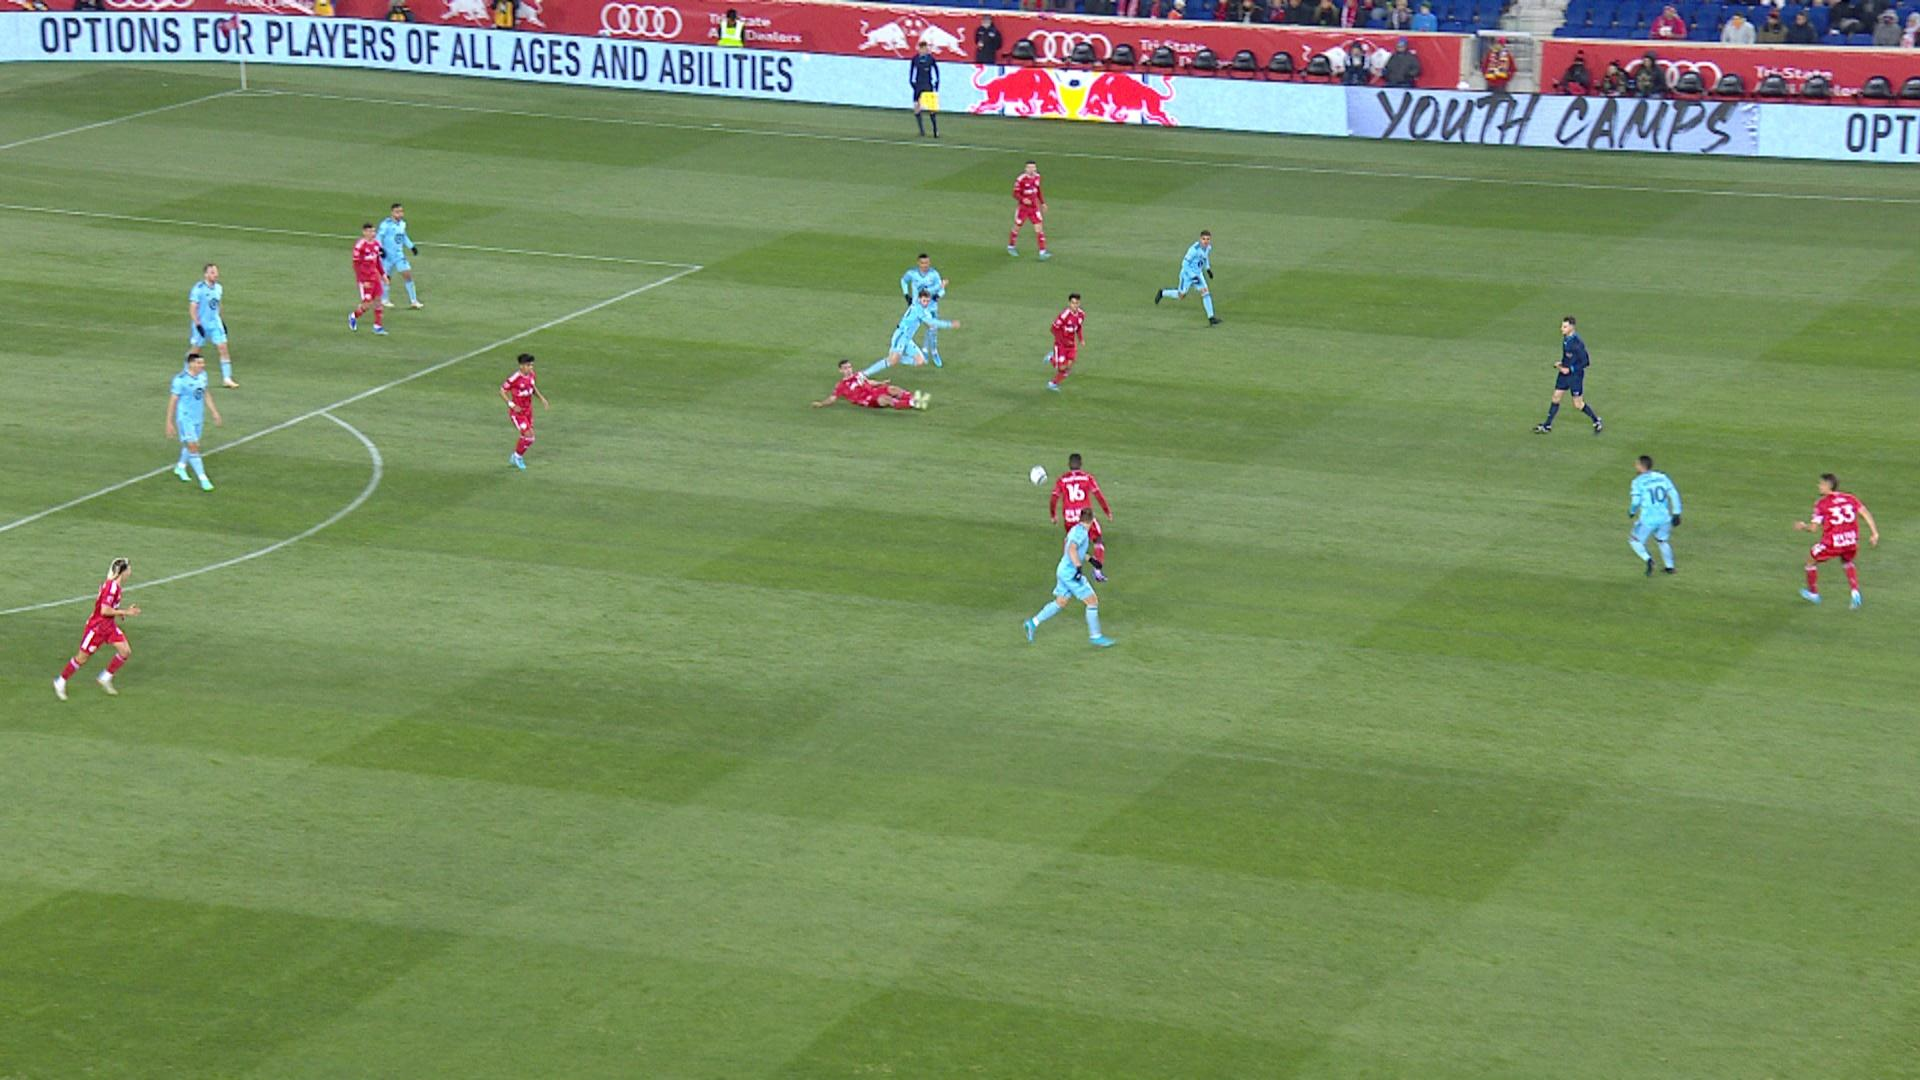football: (1029, 465, 1048, 485)
